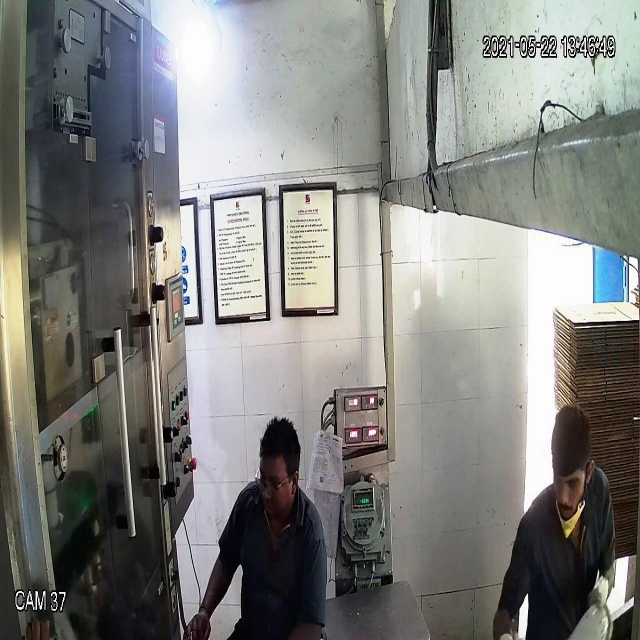Gafas: (250, 466, 295, 498)
Sin_gafas: (546, 464, 589, 497)
